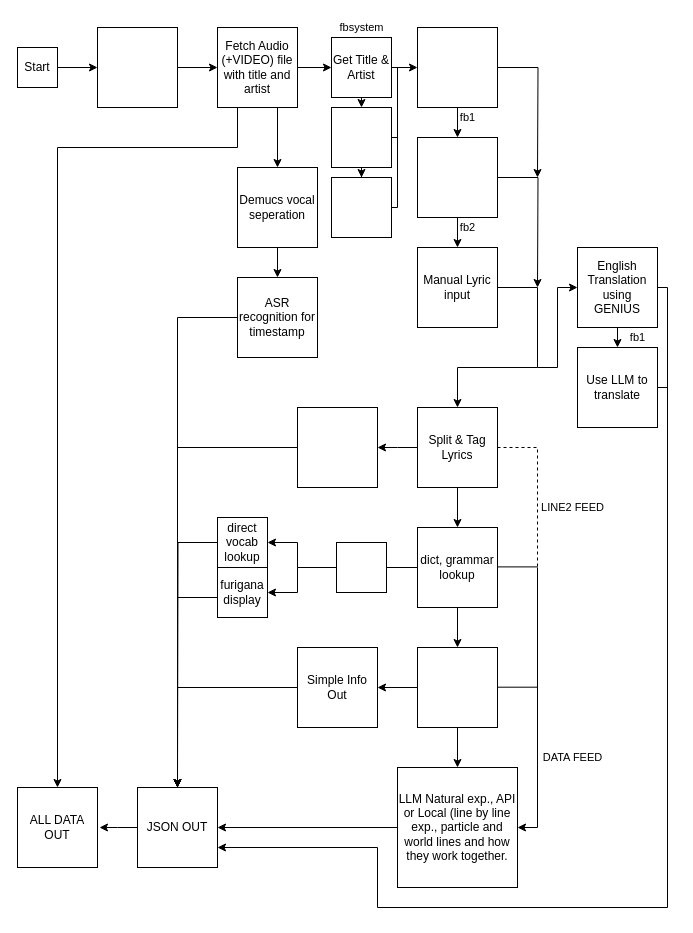
Some shapes in this 693 by 933 pixel diagram are drawn without their labels. The box of each missing label's shape, as (x1, y1, x2, y2) in pixels:
Genius Lyric API for lyrics: (416, 26, 498, 108)
grammar pharsing: (416, 646, 498, 728)
line & tag display: (296, 406, 378, 488)
LLM: (336, 542, 386, 592)
Manual input: (330, 176, 392, 238)
Song Input (YT/UPL): (96, 26, 178, 108)
Use LLM to extract: (330, 106, 392, 168)
Vocal Sep (demucs) AI Transcription: (416, 136, 498, 218)
